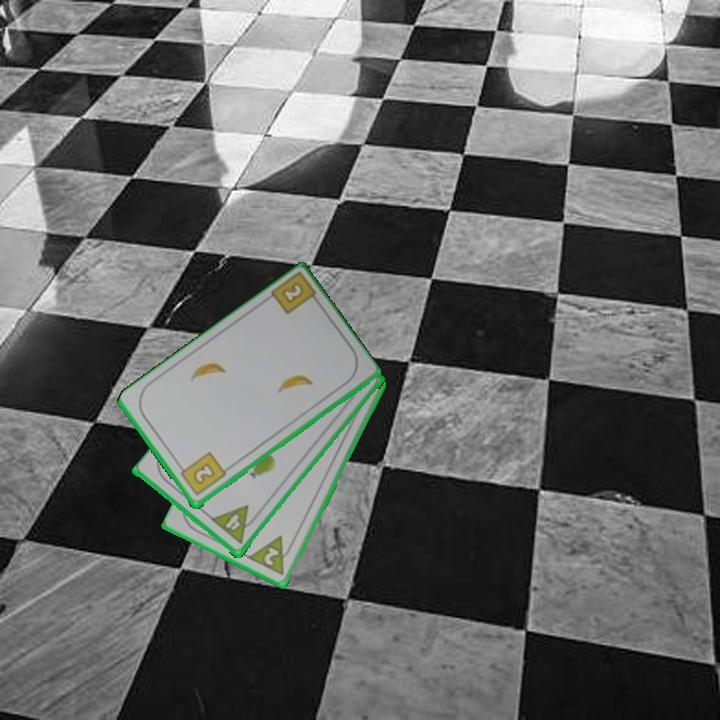2b: (175, 449, 229, 499), (278, 279, 307, 306)
2p: (246, 532, 297, 579)
4p: (208, 502, 261, 547)
